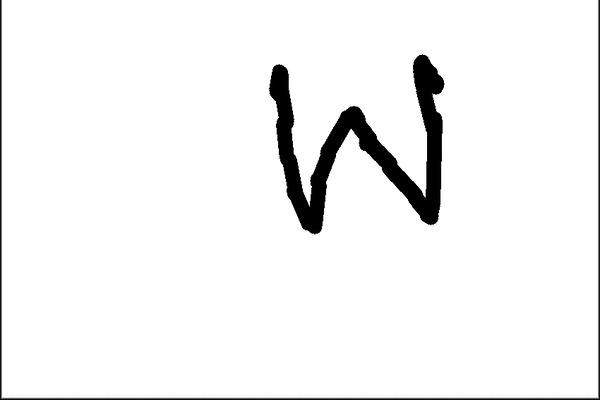w: (239, 39, 462, 255)
